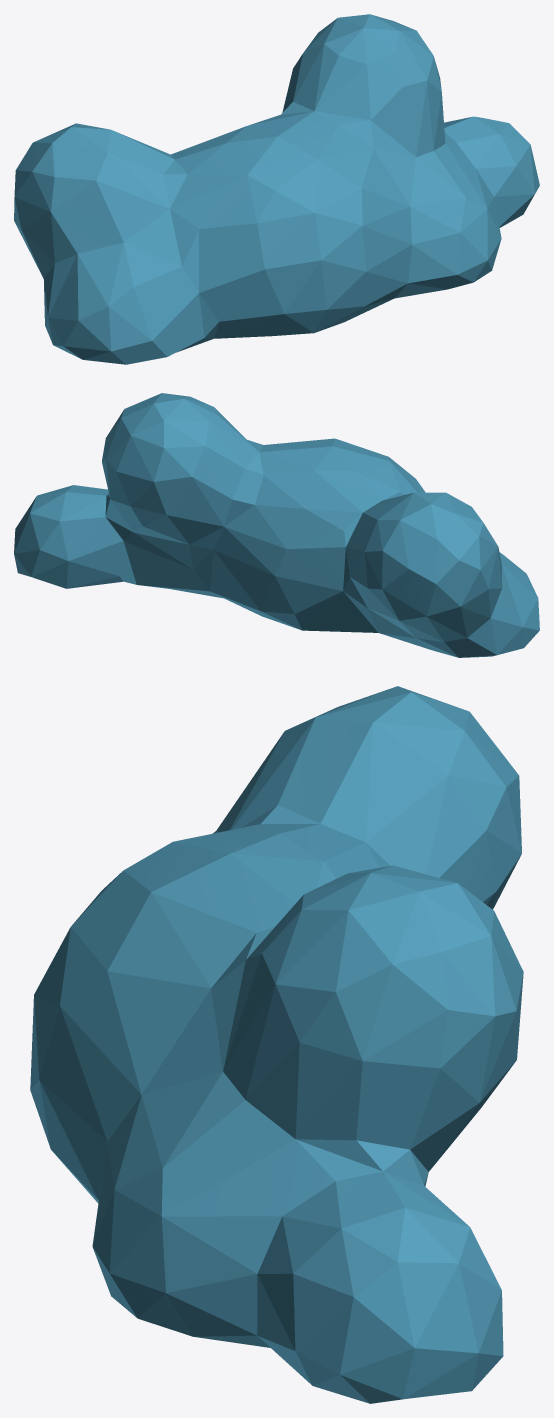
The model's file is small_cloud_27.fbx.
3 views of the same model, one above another, from view 1: azimuth 30°, elevation 25°; view 2: azimuth 150°, elevation 25°; view 3: azimuth 270°, elevation 25° (orthographic). The views are drawn at different scales.
Parts seen in each view (by area): view 1: cloud_37; view 2: cloud_37; view 3: cloud_37.
Part boxes in pixels (bbox=[...]): cloud_37: bbox=[14, 14, 539, 364]; cloud_37: bbox=[14, 393, 539, 657]; cloud_37: bbox=[30, 686, 523, 1403].
Bounding box in the file's own units: 539 × 220 × 243.
